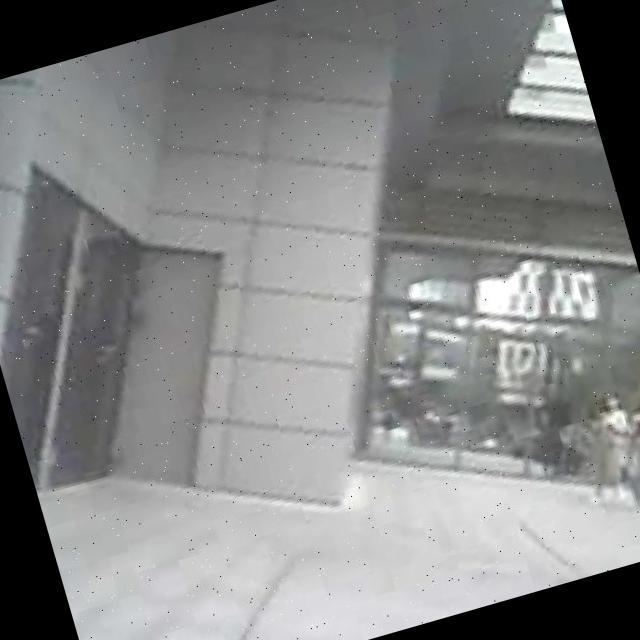person: (571, 388, 640, 507), (605, 384, 640, 508)
